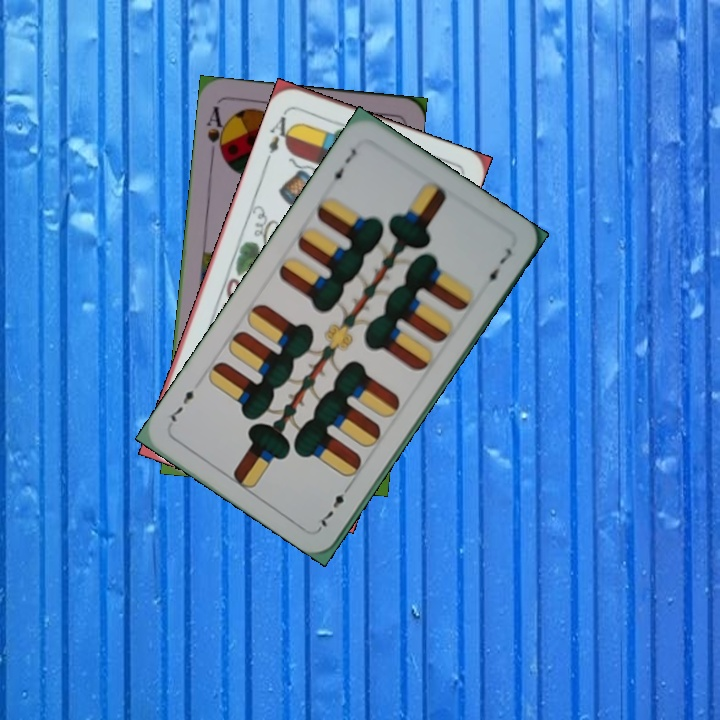E7: (314, 480, 354, 532), (324, 144, 359, 188)
EA: (264, 107, 297, 156)
SA: (202, 102, 230, 162)
